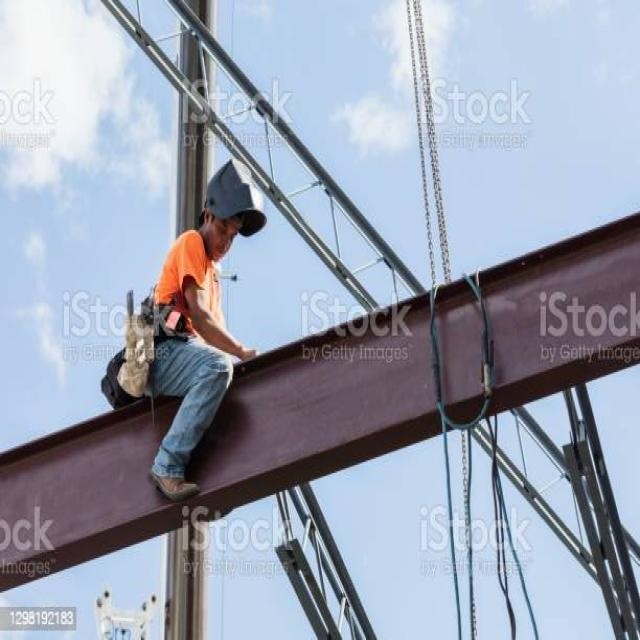Arnes_seguridad: (136, 228, 219, 350)
